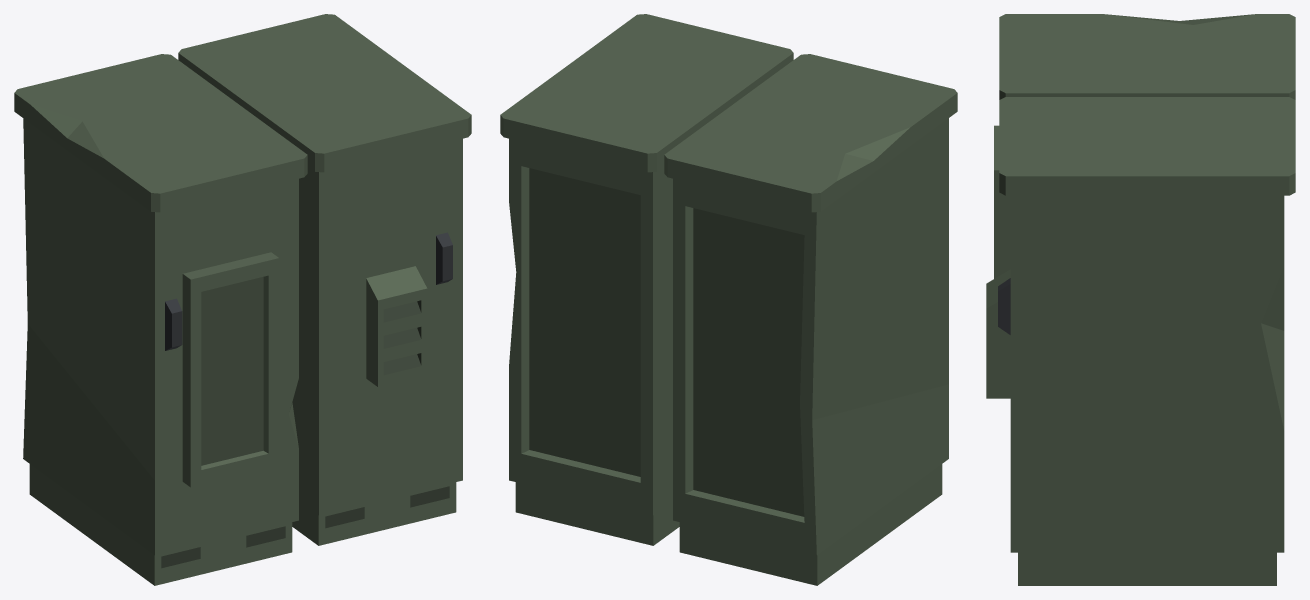
File: PowerDistro.obj
3 views of the same model, side by side, from view 1: azimuth 30°, elevation 25°; view 2: azimuth 150°, elevation 25°; view 3: azimuth 270°, elevation 25° (orthographic). The views are drawn at different scales.
Size of the model in its own units: 0.9651 by 1.15 by 0.7774.
1 material, 1 textured.
